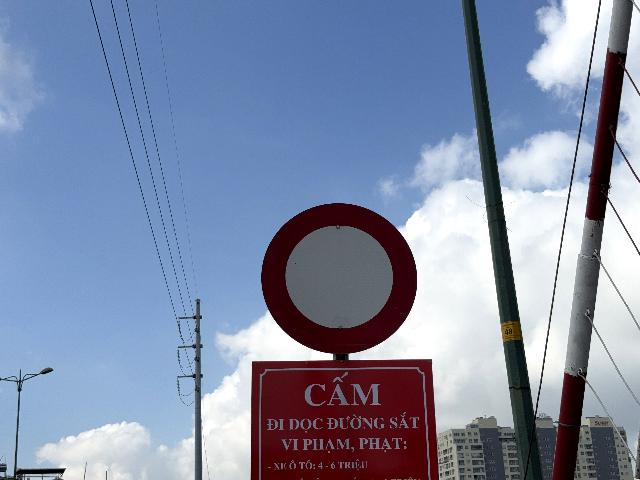duong-cam: (262, 203, 417, 354)
